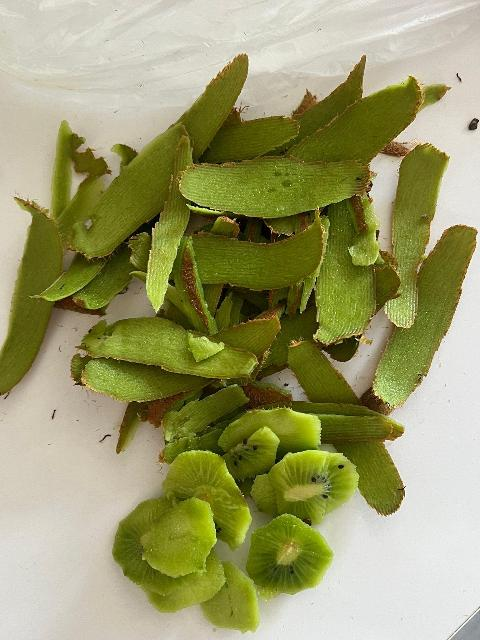Organik: (61, 53, 252, 258), (370, 141, 453, 323), (130, 216, 327, 292), (89, 314, 261, 388), (3, 191, 66, 381), (181, 159, 369, 217), (255, 447, 353, 523), (244, 517, 327, 594), (166, 453, 247, 530), (148, 498, 217, 580), (211, 575, 259, 631)
